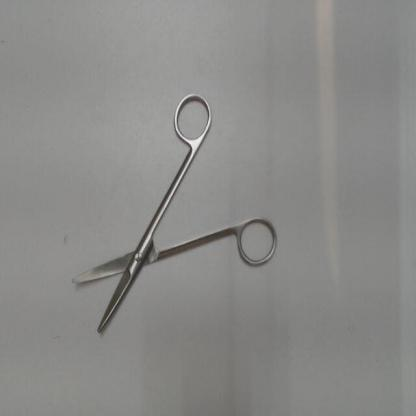Curved Mayo Scissors: (65, 89, 283, 337)
